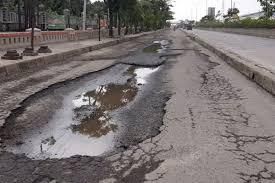Pothole: (0, 40, 221, 157), (55, 109, 116, 158), (74, 84, 138, 109), (126, 63, 161, 85), (142, 38, 166, 54)
